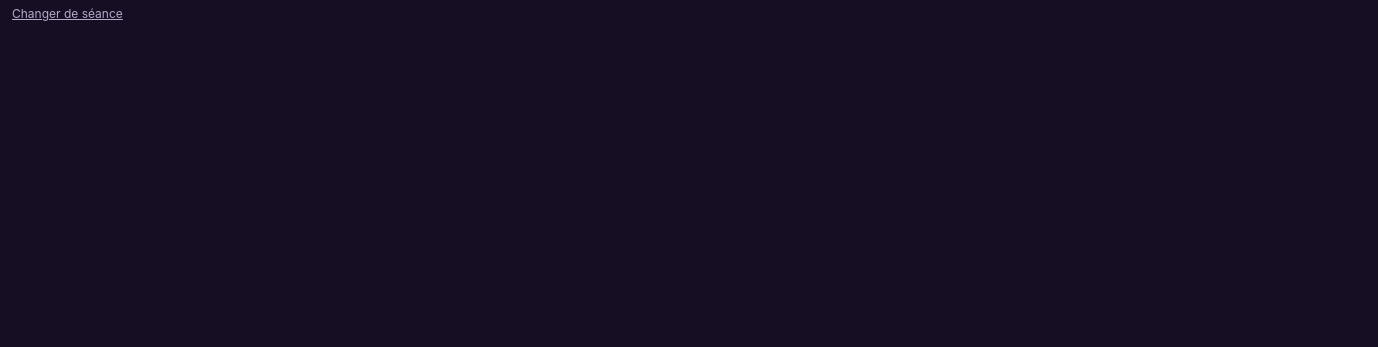
it: SwapSessionControl › offers a discipline choice by default (triathlon)
Click the button "Changer de séance".
click(67, 14)  # box [12,6,123,22]
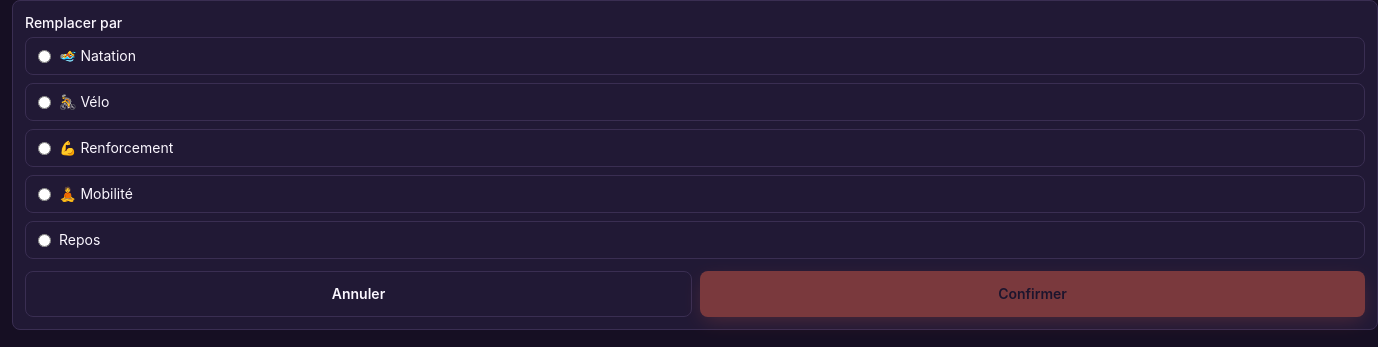
Result: the radio button labelled "Repos" is shown at [38,234,51,246]
